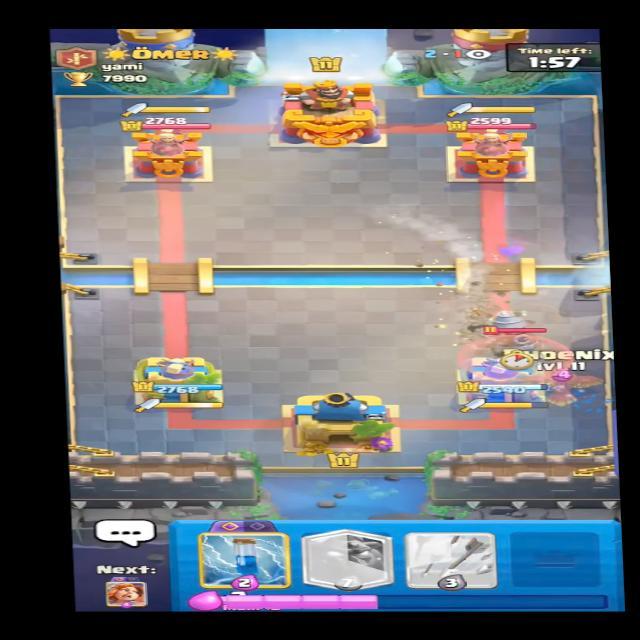goblin-drill: (482, 303, 555, 364)
